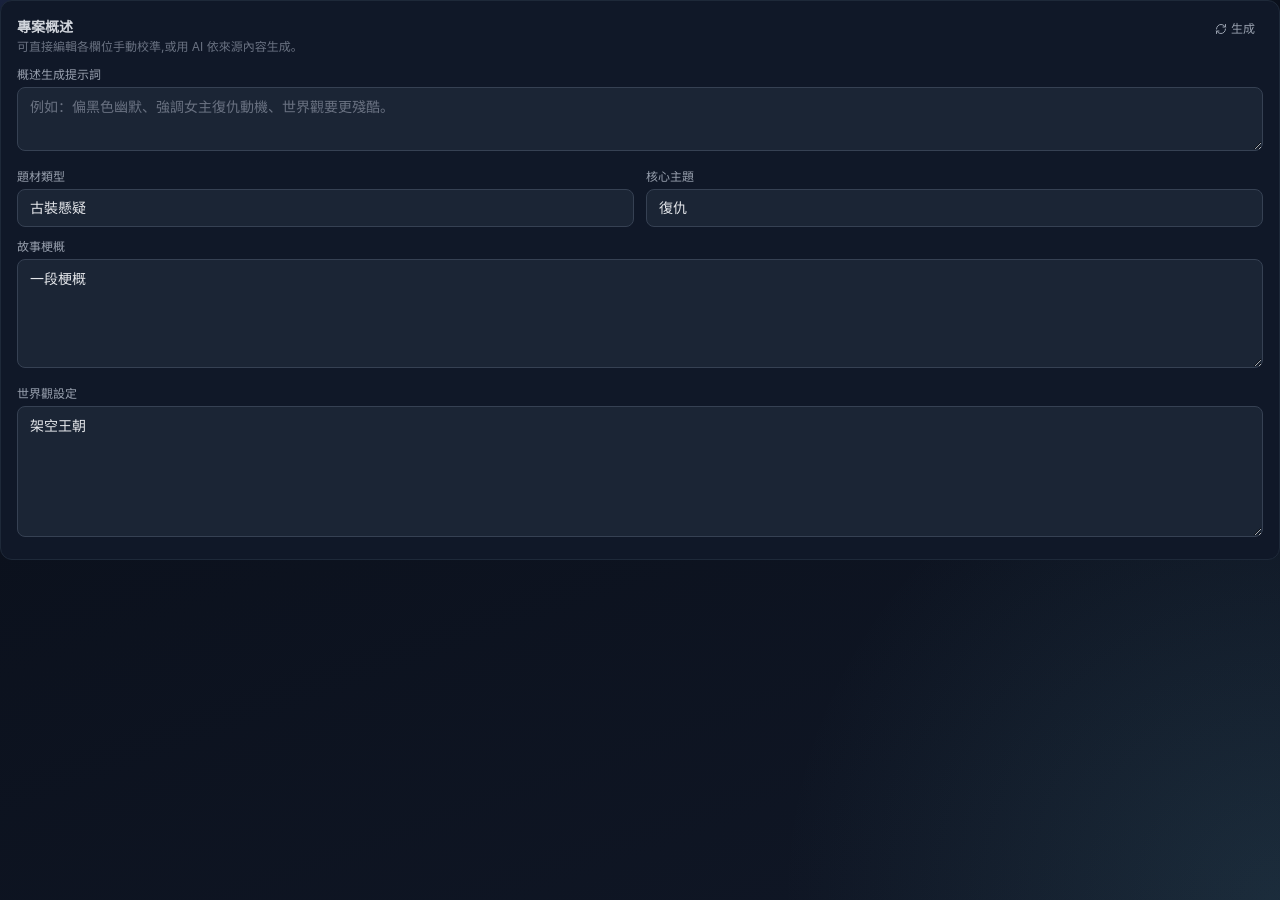
Test case: OverviewSection › shows the save button only after a field is edited
The image size is (1280, 900).
Expected: the button "儲存概述" is not shown
Replace the text in the field labelled "核心主題" with "成長" at (954, 208), box [646, 188, 1263, 226]
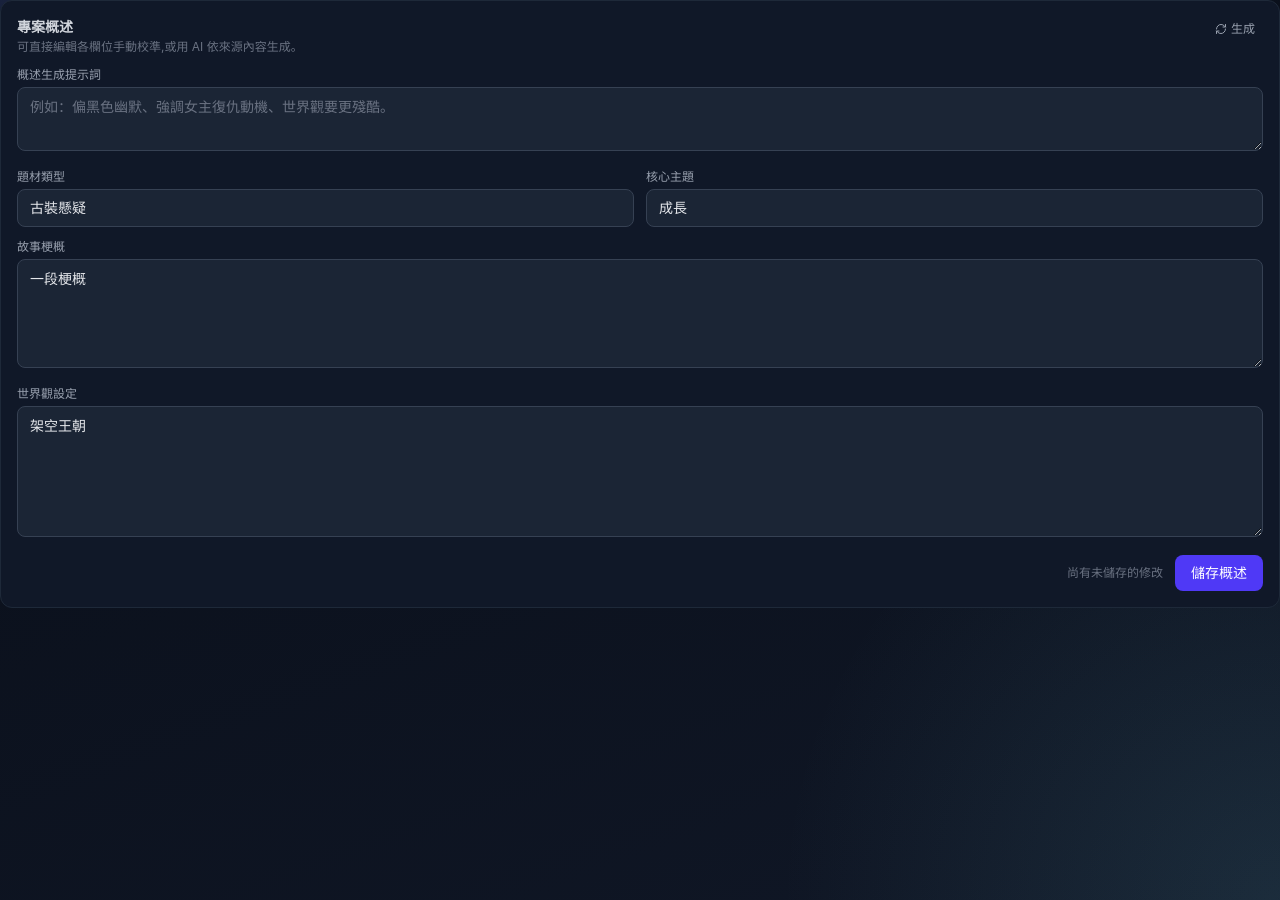
Expected: the button "儲存概述" is shown, [1175, 555, 1263, 591]
